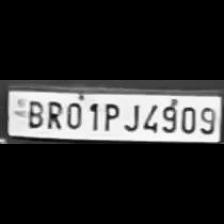0: (62, 98, 84, 130), (178, 103, 196, 133)
1: (85, 99, 102, 131)
4: (140, 100, 158, 132)
9: (196, 102, 216, 134), (158, 100, 176, 134)
B: (22, 98, 44, 128)
J: (122, 100, 140, 132)
P: (98, 99, 120, 131)
R: (43, 99, 63, 129)
